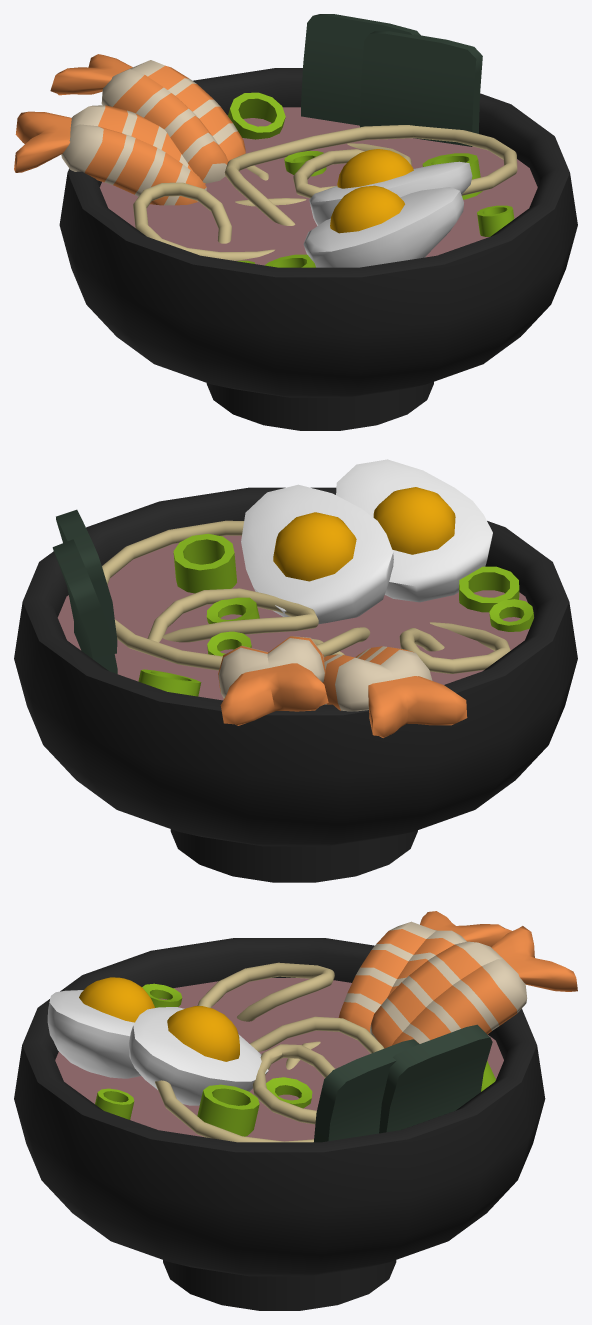
File: ramen.glb
The picture shows the model from 3 angles, top to bottom: view 1: azimuth 30°, elevation 25°; view 2: azimuth 150°, elevation 25°; view 3: azimuth 270°, elevation 25°; orthographic projection. The views are drawn at different scales.
Parts seen in each view (by area): view 1: Food_Ramen; view 2: Food_Ramen; view 3: Food_Ramen.
Part boxes in pixels (bbox=[...]): Food_Ramen: bbox=[14, 14, 577, 430]; Food_Ramen: bbox=[14, 459, 577, 882]; Food_Ramen: bbox=[14, 911, 577, 1310].
Bounding box in the file's own units: 0.9933 × 0.5834 × 1.05.
Materials: 1 (1 with a texture image).
